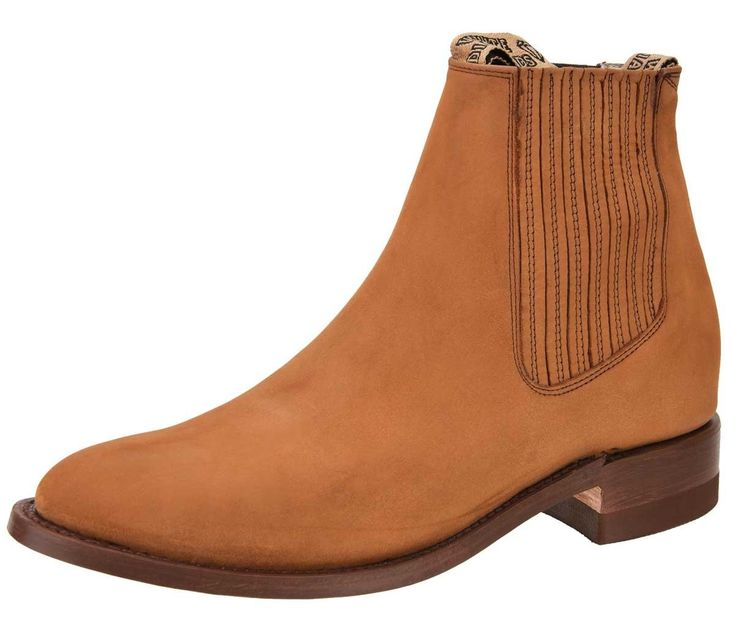gamuza: (32, 64, 721, 573)
